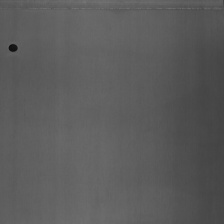welding_line: (6, 40, 22, 55)
